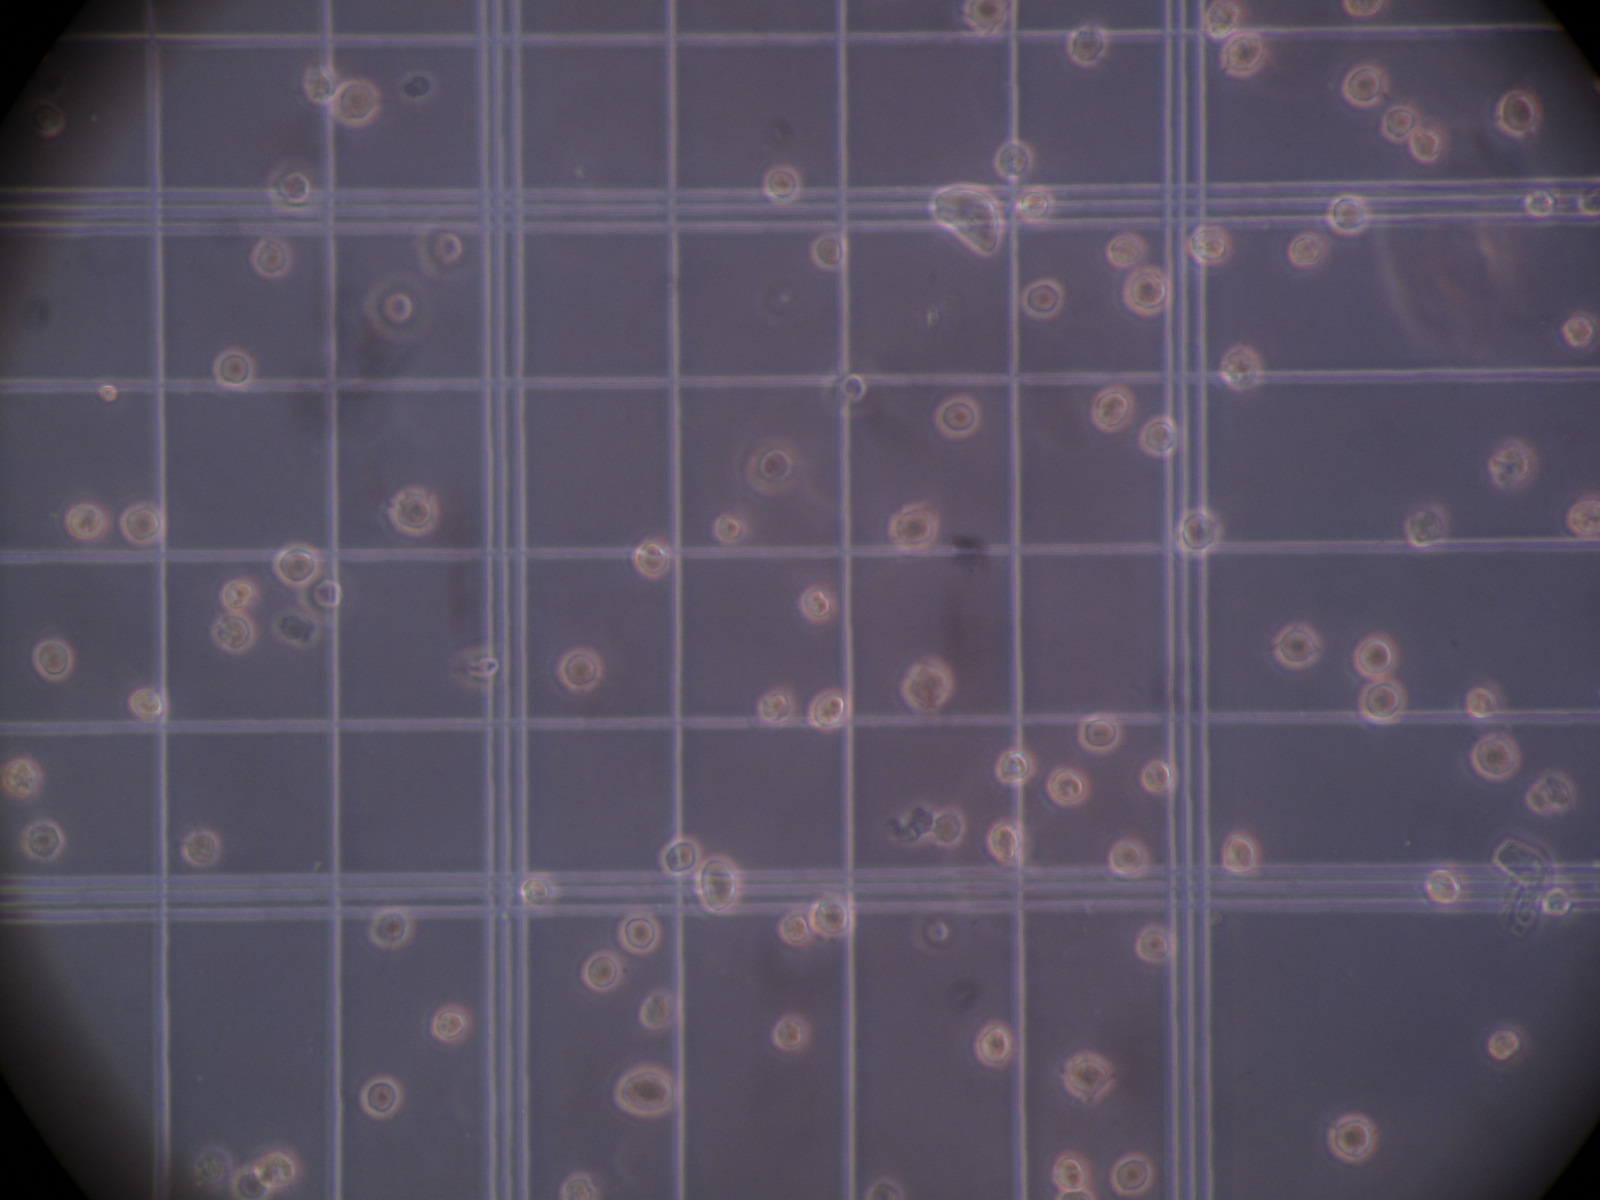hemo: (360, 274, 431, 343), (414, 221, 476, 284), (614, 1063, 677, 1117), (1060, 1050, 1116, 1104), (900, 655, 952, 713), (694, 853, 741, 916), (884, 502, 940, 555), (329, 77, 383, 129), (386, 487, 441, 537), (1487, 434, 1536, 490), (266, 158, 314, 216), (746, 437, 792, 495), (1123, 263, 1173, 315), (1425, 857, 1471, 913), (1275, 620, 1327, 669), (272, 541, 321, 590), (1175, 505, 1223, 556), (1471, 734, 1523, 780), (556, 644, 603, 693), (1495, 88, 1543, 137), (824, 366, 871, 416), (1359, 678, 1407, 726), (1329, 1114, 1376, 1163), (1222, 32, 1270, 78), (1403, 500, 1453, 546), (935, 395, 981, 441), (297, 579, 343, 626), (254, 1145, 301, 1190), (1, 754, 45, 802), (1092, 384, 1136, 432), (1220, 345, 1265, 391), (118, 500, 165, 545), (359, 1074, 403, 1119), (617, 910, 661, 955), (1188, 223, 1233, 267), (1343, 63, 1388, 107), (210, 613, 257, 655), (1519, 183, 1566, 226), (210, 345, 254, 389), (248, 234, 291, 279), (656, 834, 700, 877), (1328, 193, 1372, 236), (1066, 23, 1107, 68), (1077, 713, 1123, 755), (21, 817, 63, 861), (810, 897, 854, 939), (1020, 279, 1065, 320), (1488, 1020, 1529, 1064), (975, 1020, 1013, 1068), (33, 640, 74, 683), (369, 908, 412, 949), (994, 137, 1034, 182), (1112, 1152, 1153, 1196), (66, 502, 111, 541), (1052, 1150, 1092, 1192), (1139, 415, 1179, 458), (1356, 635, 1396, 678), (583, 949, 622, 993), (763, 163, 803, 205), (1286, 231, 1330, 268), (1223, 828, 1259, 875), (963, 1, 1010, 35), (808, 229, 848, 270), (180, 829, 222, 868), (431, 1005, 472, 1044), (1015, 185, 1057, 224), (1136, 921, 1175, 963), (1046, 766, 1087, 805), (631, 539, 669, 582), (1110, 836, 1148, 879), (1204, 1, 1247, 39), (227, 1165, 272, 1200), (1569, 492, 1600, 542), (25, 97, 66, 136), (809, 689, 848, 730), (1409, 125, 1448, 165), (1561, 308, 1600, 348), (1107, 229, 1146, 268), (1540, 771, 1577, 812), (1466, 678, 1503, 720), (126, 684, 165, 722), (995, 746, 1034, 784), (640, 989, 677, 1030), (1382, 105, 1419, 145), (931, 807, 966, 848), (756, 688, 795, 725), (797, 585, 837, 621), (1139, 759, 1178, 795), (986, 821, 1020, 862), (774, 1013, 810, 1051), (304, 66, 336, 106), (779, 908, 811, 947), (220, 580, 256, 615), (1541, 882, 1575, 919), (520, 874, 554, 908), (559, 1174, 601, 1200), (1574, 184, 1600, 219), (1340, 1, 1390, 20), (867, 1179, 906, 1200), (713, 514, 741, 541)
